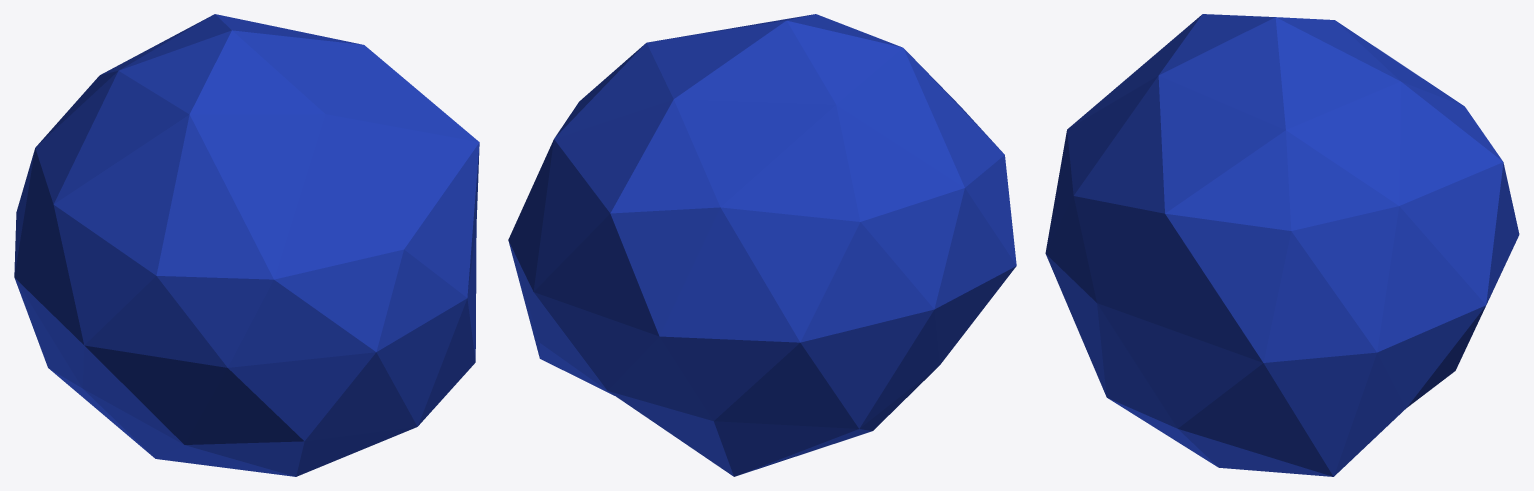
Rendered from PlanetNoFace.fbx.
The picture shows the model from 3 angles, left to right: view 1: azimuth 30°, elevation 25°; view 2: azimuth 150°, elevation 25°; view 3: azimuth 270°, elevation 25°; orthographic projection. The views are drawn at different scales.
Parts seen in each view (by area): view 1: Planet3; view 2: Planet3; view 3: Planet3.
Boxes of the visible parts, left/top/right/bottom form: Planet3: left=14, top=14, right=479, bottom=476; Planet3: left=508, top=14, right=1016, bottom=476; Planet3: left=1045, top=14, right=1519, bottom=476.
Size of the model in its own units: 281 by 274 by 284.
